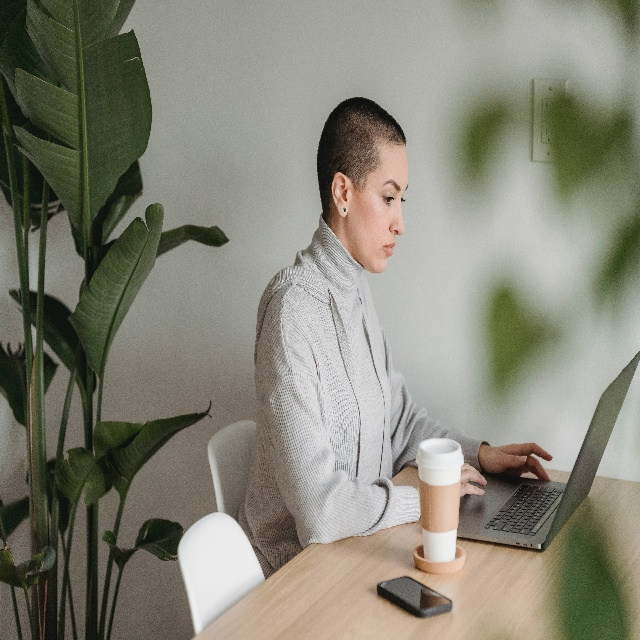Sin_guantes: (481, 442, 553, 481), (460, 462, 487, 497)
